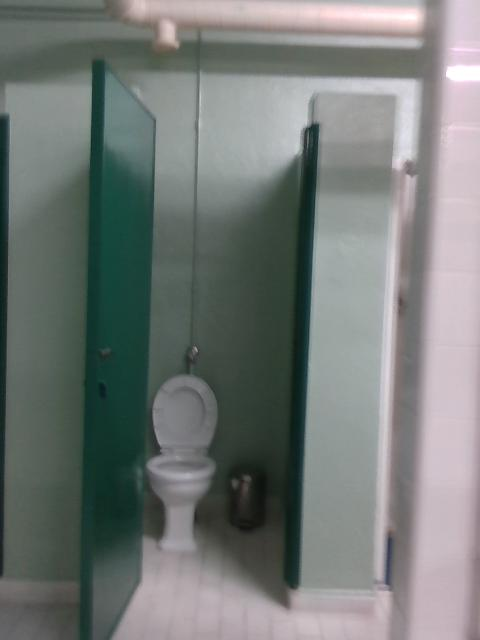open_door: (53, 80, 312, 611)
